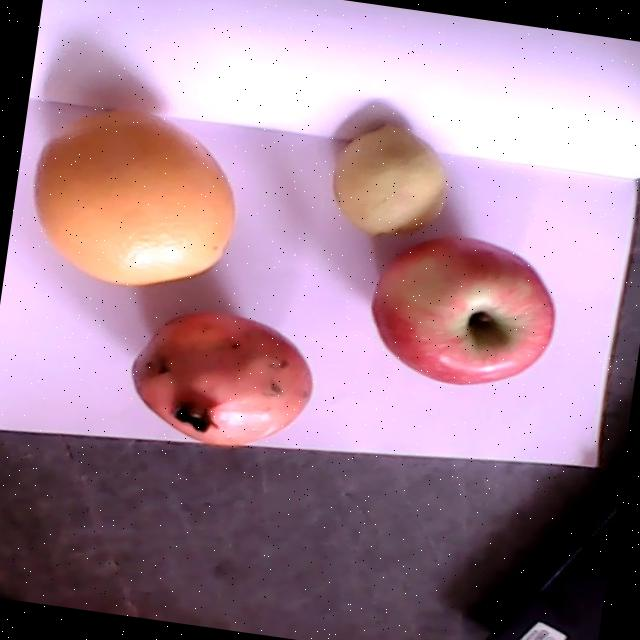apple: (373, 235, 552, 384)
lemon: (333, 122, 446, 235)
orange: (46, 105, 237, 284)
pomegranate: (131, 308, 312, 446)
